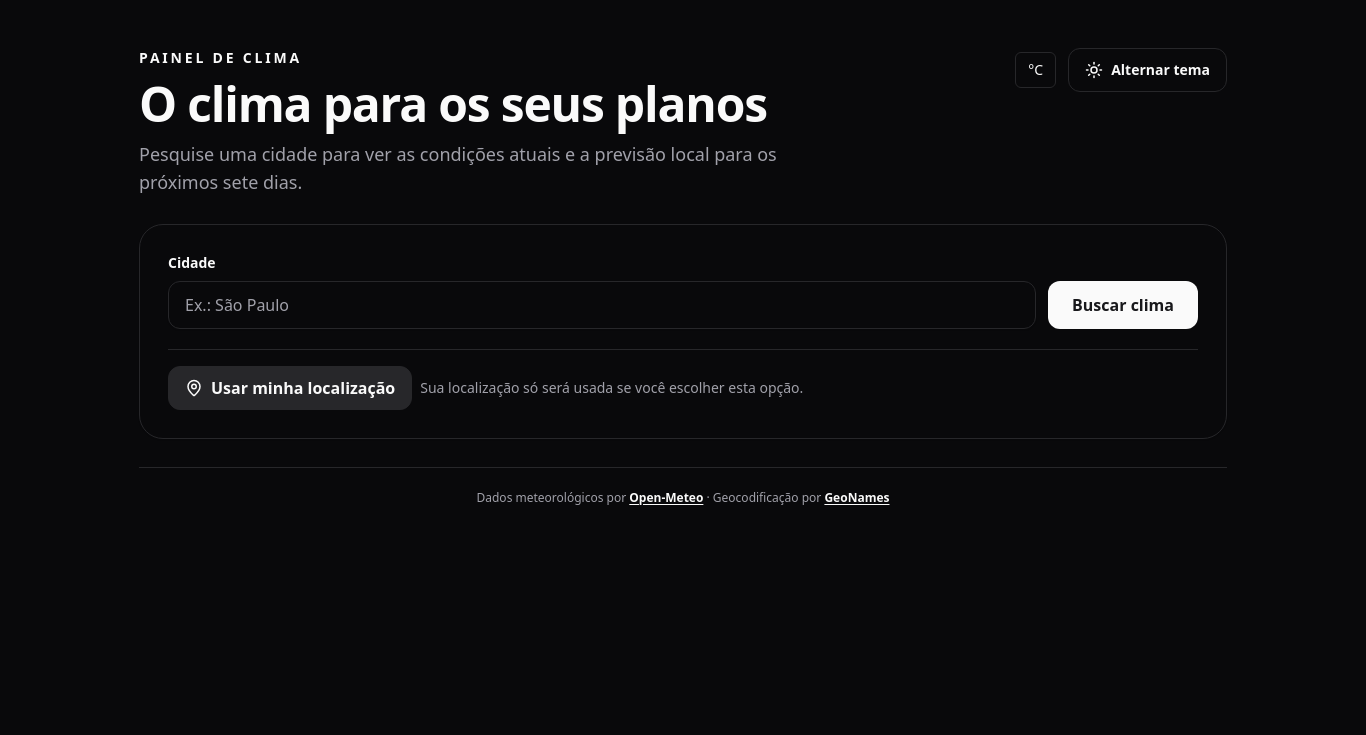
Test: WeatherView city search › announces a recoverable provider error and retries the same search
This screenshot has width=1366, height=735.
In the field labelled "Cidade": (602, 305) [168, 281, 1036, 329], type "Paris"
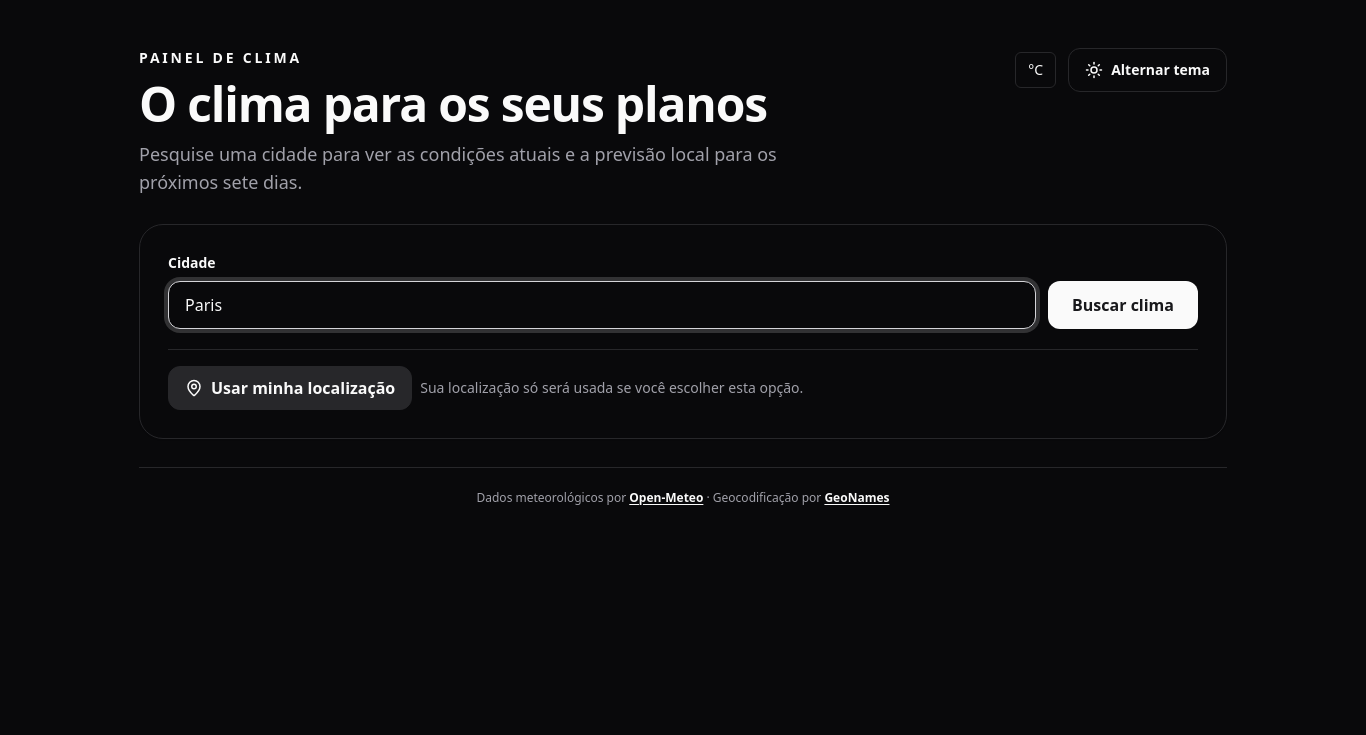
Press Enter
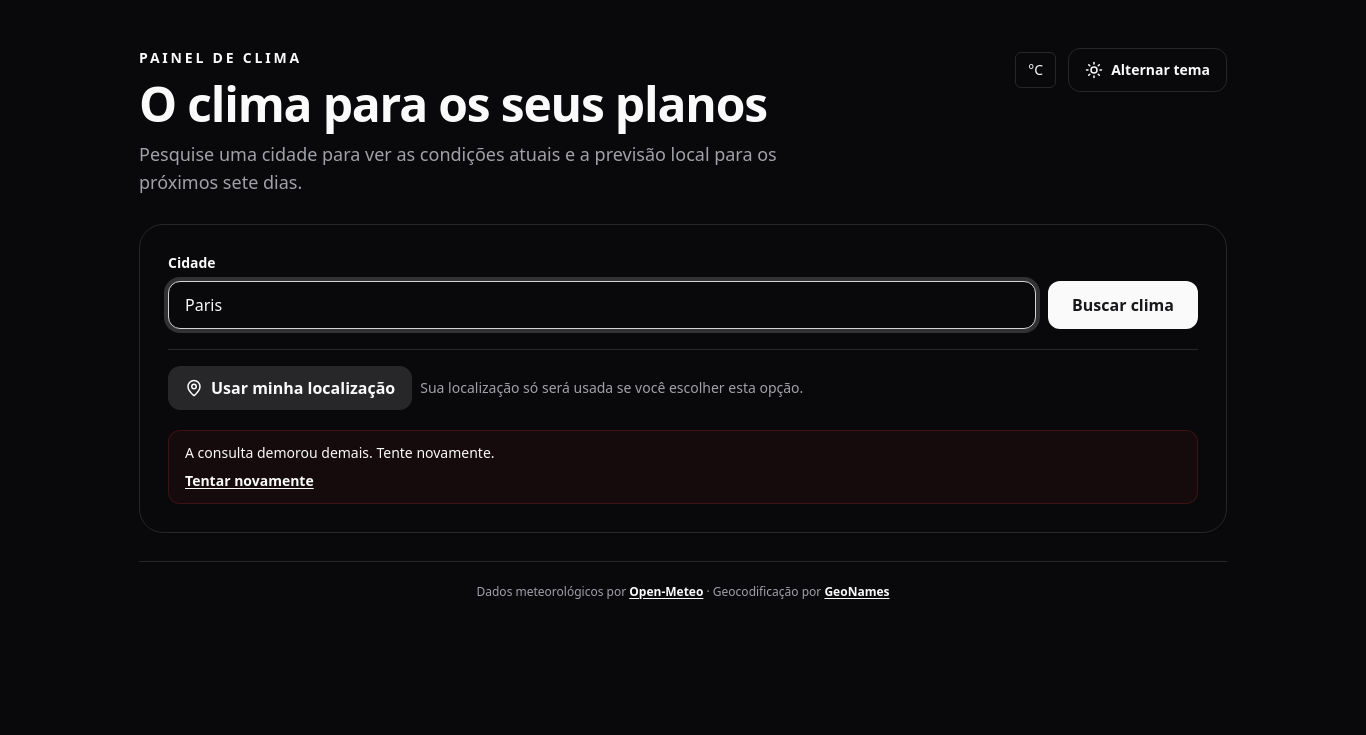
Expected: the message does not show "private provider detail", [168, 430, 1198, 504]
Now the message shows "A consulta demorou demais. Tente novamente.", box [185, 443, 494, 462]
Click the button "Tentar novamente": (249, 481) [185, 471, 314, 491]
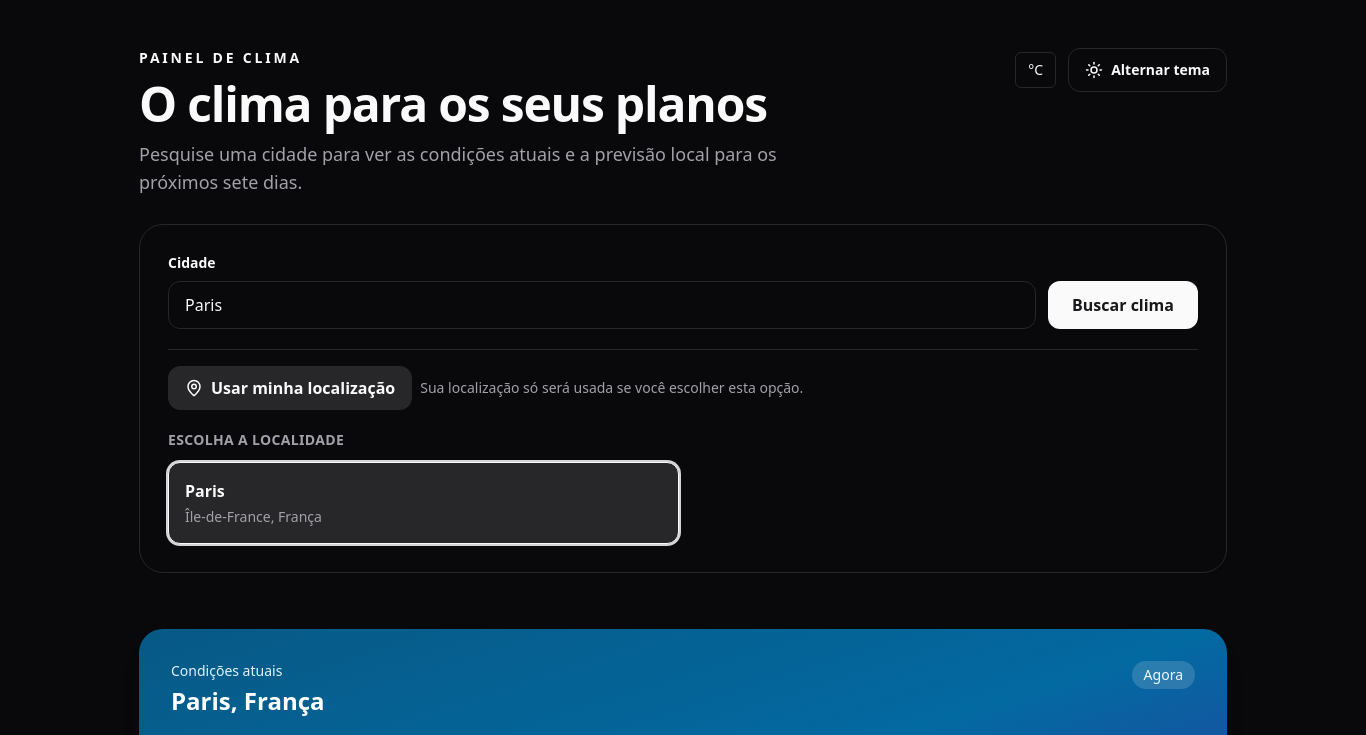
Now the heading "Paris, França" is shown, box [171, 685, 324, 717]
